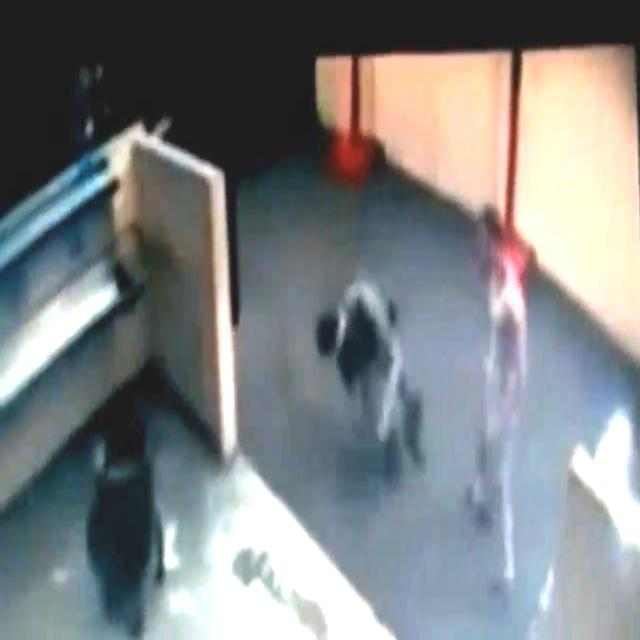fight: (311, 262, 426, 516)
